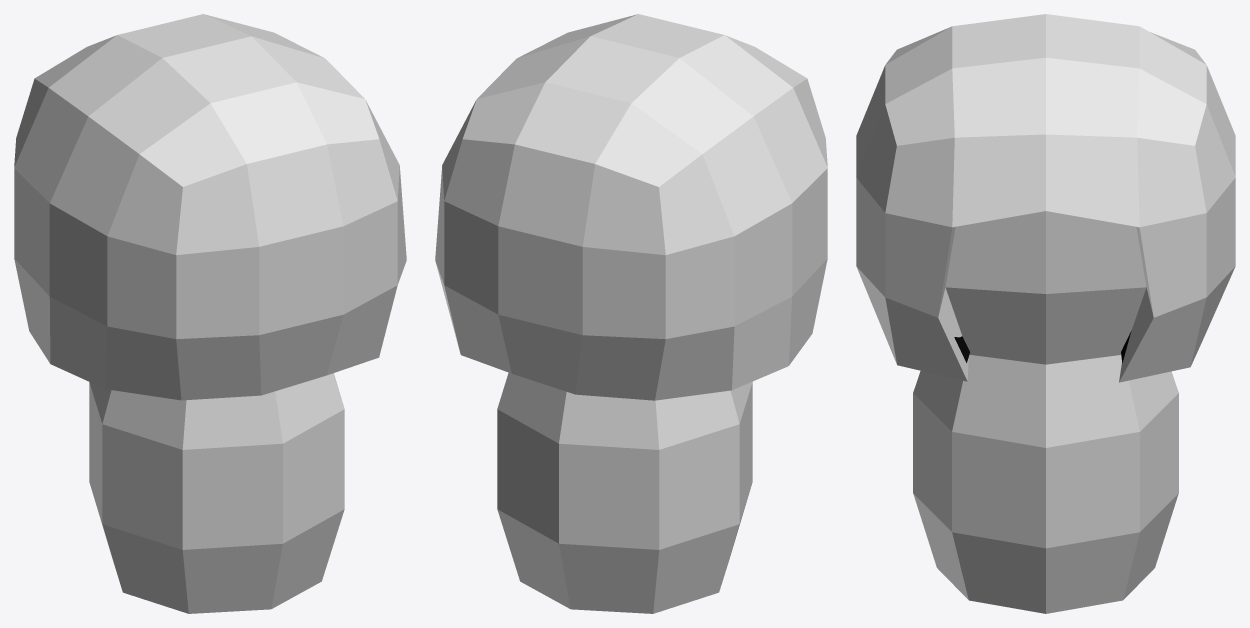
File: MS_Gueisha1.fbx
The picture shows the model from 3 angles, left to right: view 1: azimuth 30°, elevation 25°; view 2: azimuth 150°, elevation 25°; view 3: azimuth 270°, elevation 25°; orthographic projection.
Parts seen in each view (by area): view 1: Cube.001; view 2: Cube.001; view 3: Cube.001.
Boxes of the visible parts, x1,y1,x2,y2 form: Cube.001: (14, 14, 406, 613); Cube.001: (435, 14, 827, 613); Cube.001: (856, 14, 1235, 613).
Size of the model in its own units: 362 by 578 by 377.
2 materials, 1 textured.
